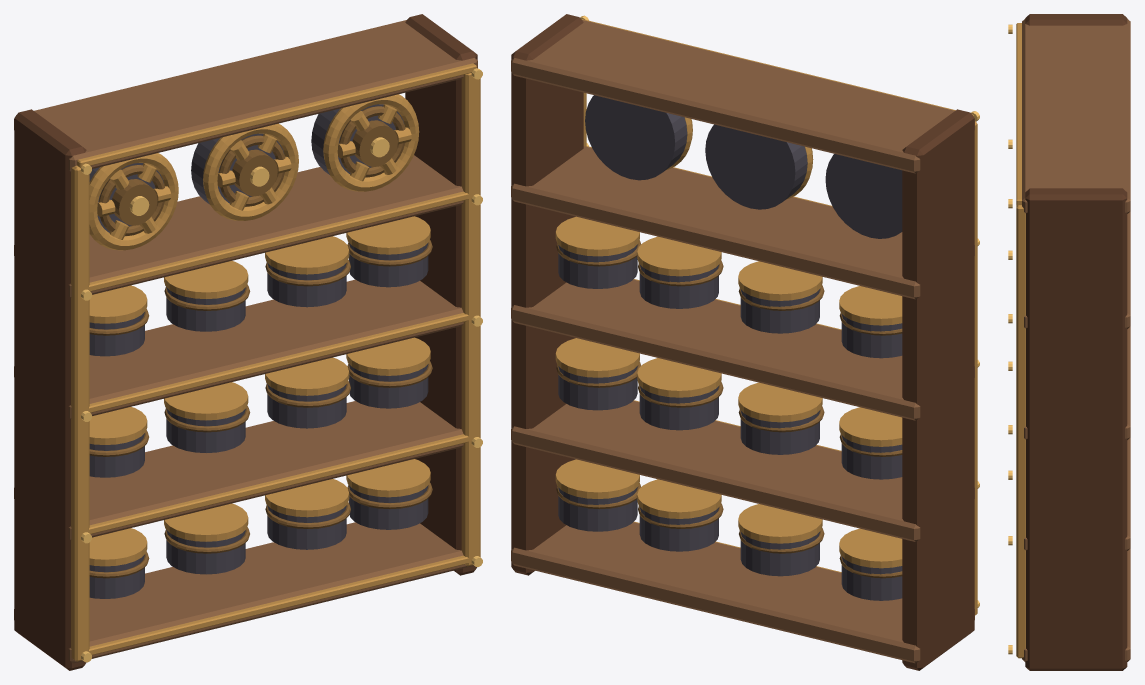
File: SM_Stage3_FilmRack.fbx
The picture shows the model from 3 angles, left to right: view 1: azimuth 30°, elevation 25°; view 2: azimuth 150°, elevation 25°; view 3: azimuth 270°, elevation 25°; orthographic projection. The views are drawn at different scales.
Visible parts, largest first — view 1: SM_Stage3_FilmRack; view 2: SM_Stage3_FilmRack; view 3: SM_Stage3_FilmRack.
Part boxes in pixels (bbox=[...]): SM_Stage3_FilmRack: bbox=[14, 14, 482, 670]; SM_Stage3_FilmRack: bbox=[511, 14, 979, 670]; SM_Stage3_FilmRack: bbox=[1008, 14, 1130, 670].
Bounding box in the file's own units: 192 × 54 × 232.
